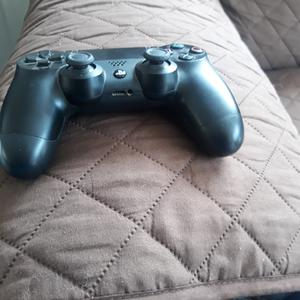controller: (1, 43, 244, 179)
